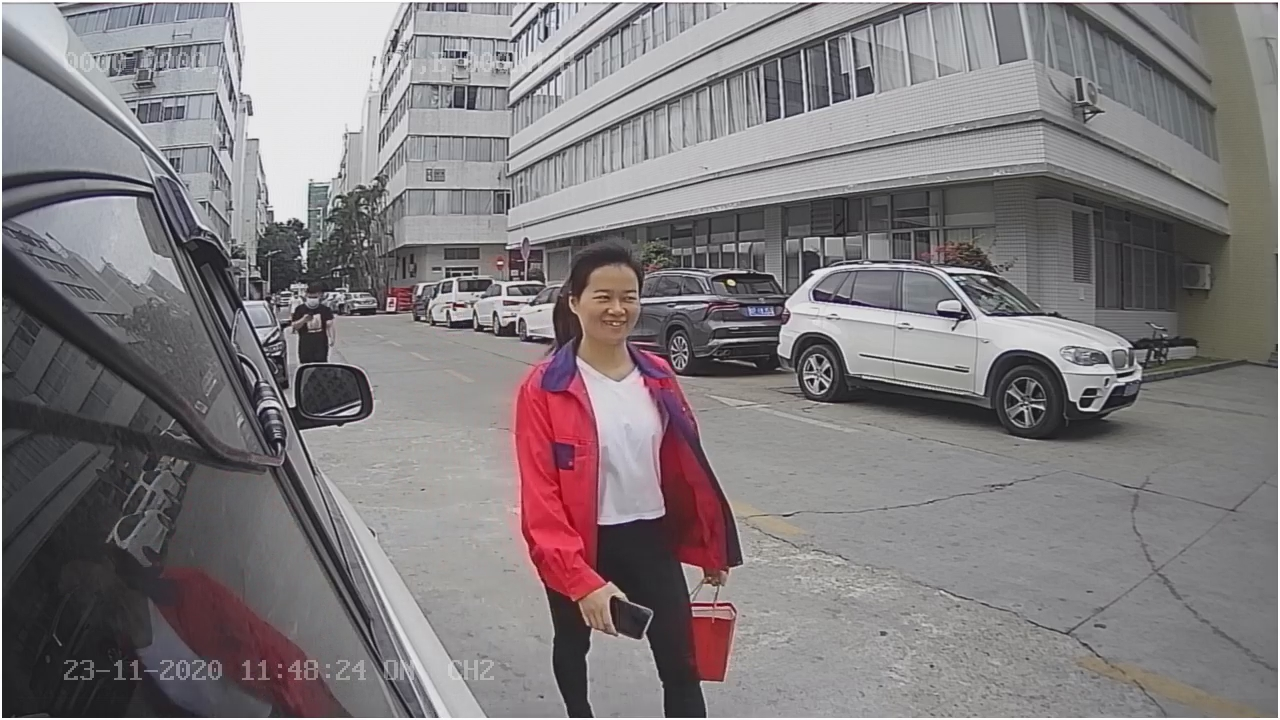person: (500, 221, 755, 627)
